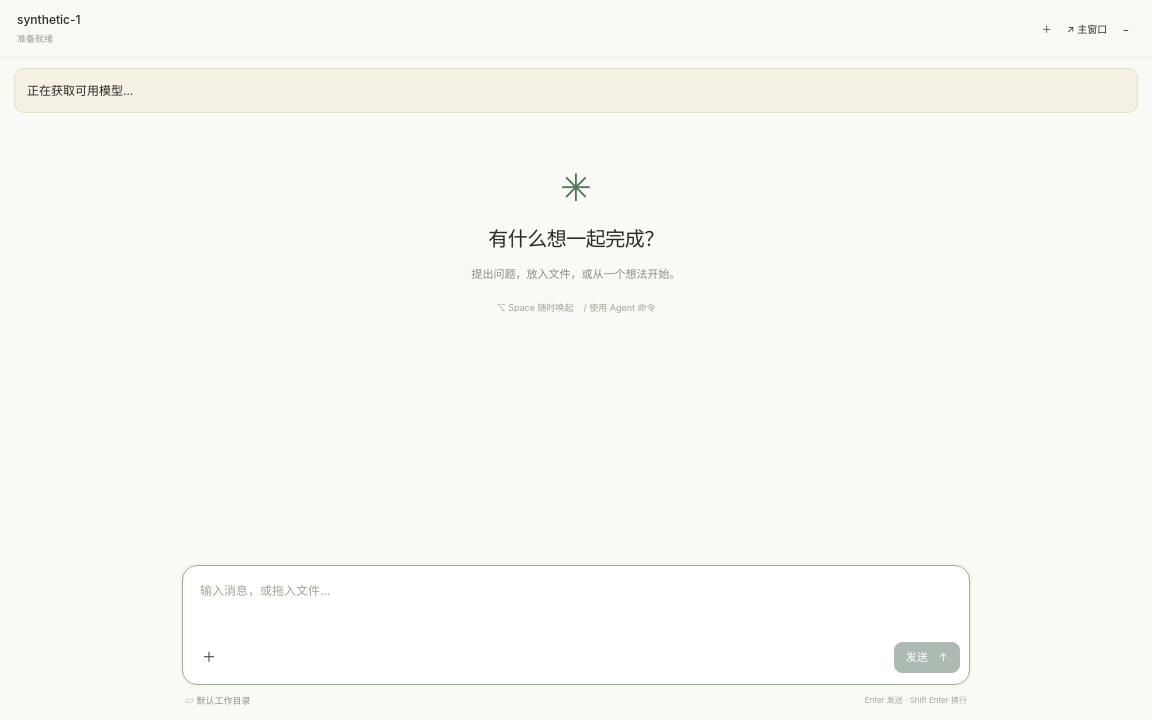
Test: finishes the hidden draft after a session switch; other session sending=false
Expected: the text "synthetic-1" is shown, left=17, top=10, right=80, bottom=29
In the text box labelled "消息": [576, 600] box left=183, top=566, right=969, bottom=634, type "first draft"
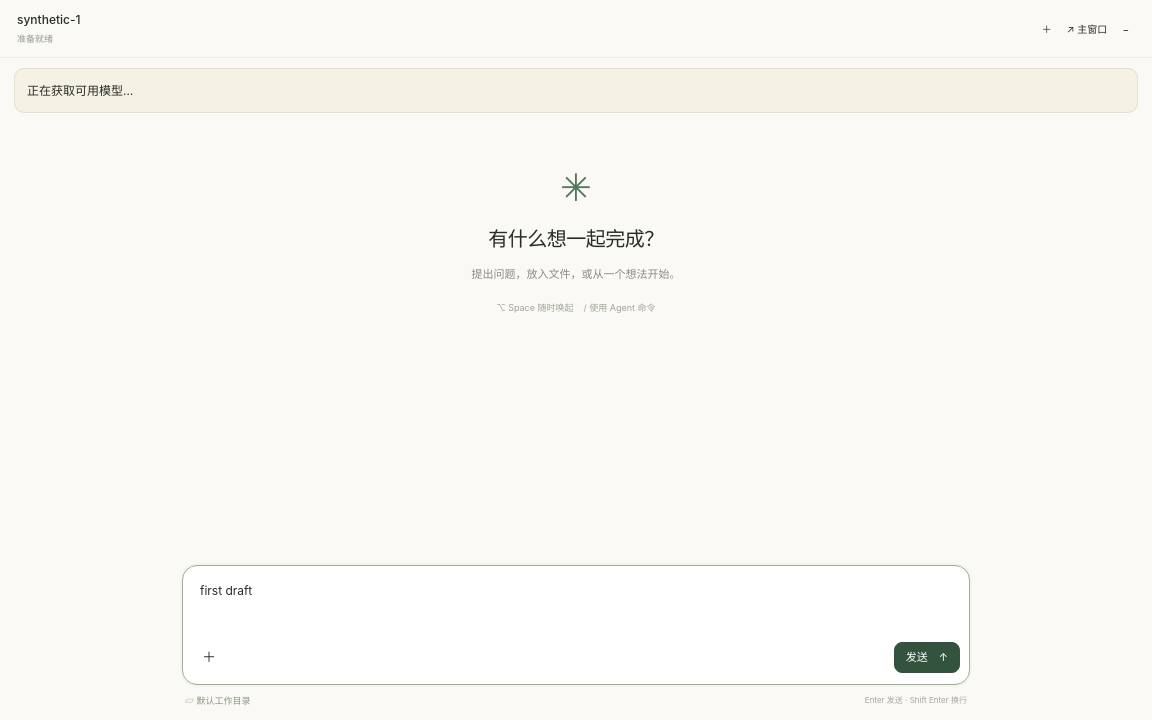
Replace the text in the text box named "消息" with "latest original draft": [576, 600] box left=183, top=566, right=969, bottom=634
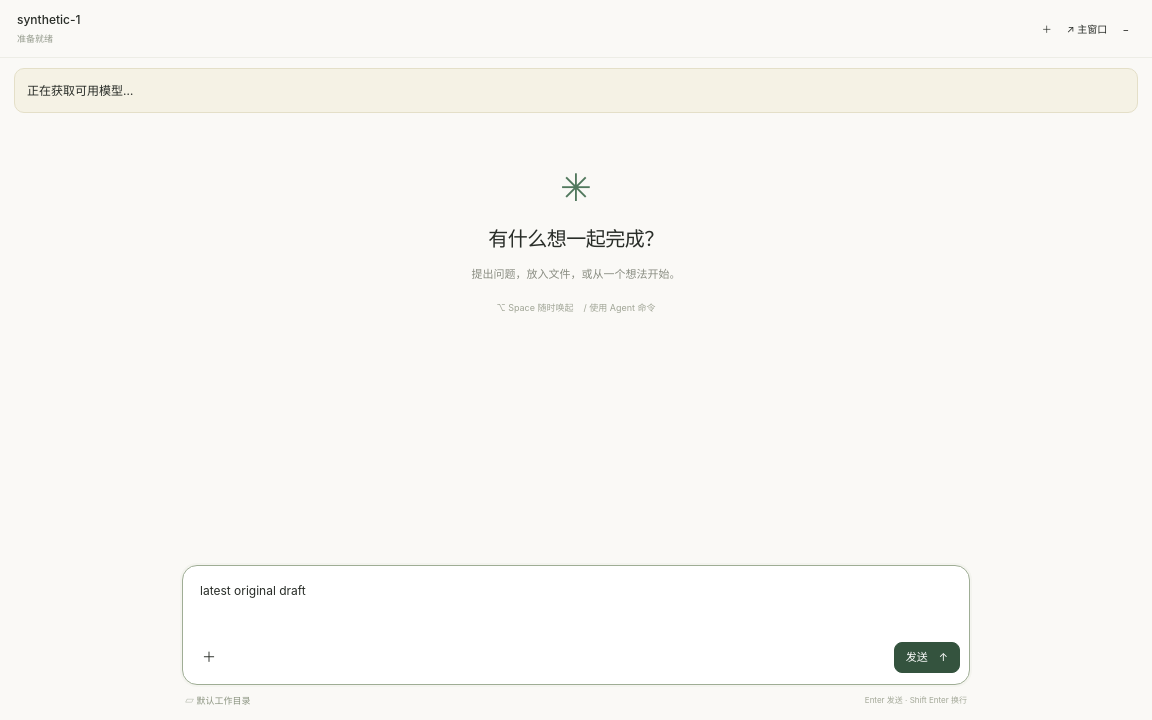
Press Escape in the text box named "消息", box left=183, top=566, right=969, bottom=634
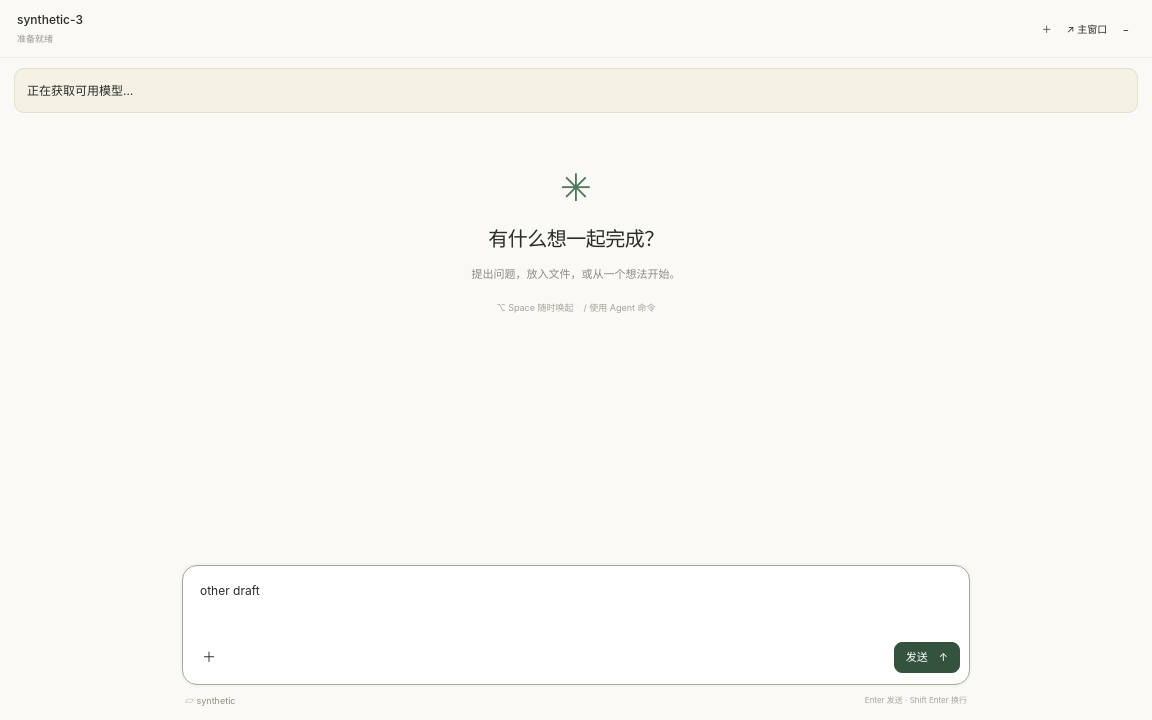
Result: the text box named "消息" holds "other draft" at left=183, top=566, right=969, bottom=634
